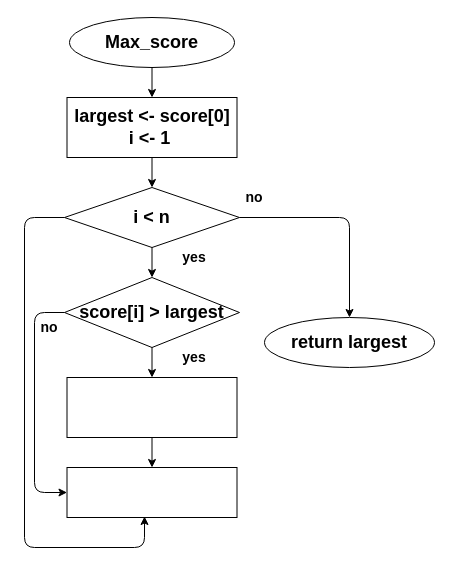
Some shapes in this 452 by 573 pixel diagram are drawn without their labels. The centre of each missing label's shape, as x and y in pixels:
"i++" belongs at (x=151, y=492).
"largest <- score[i]" belongs at (x=151, y=407).
